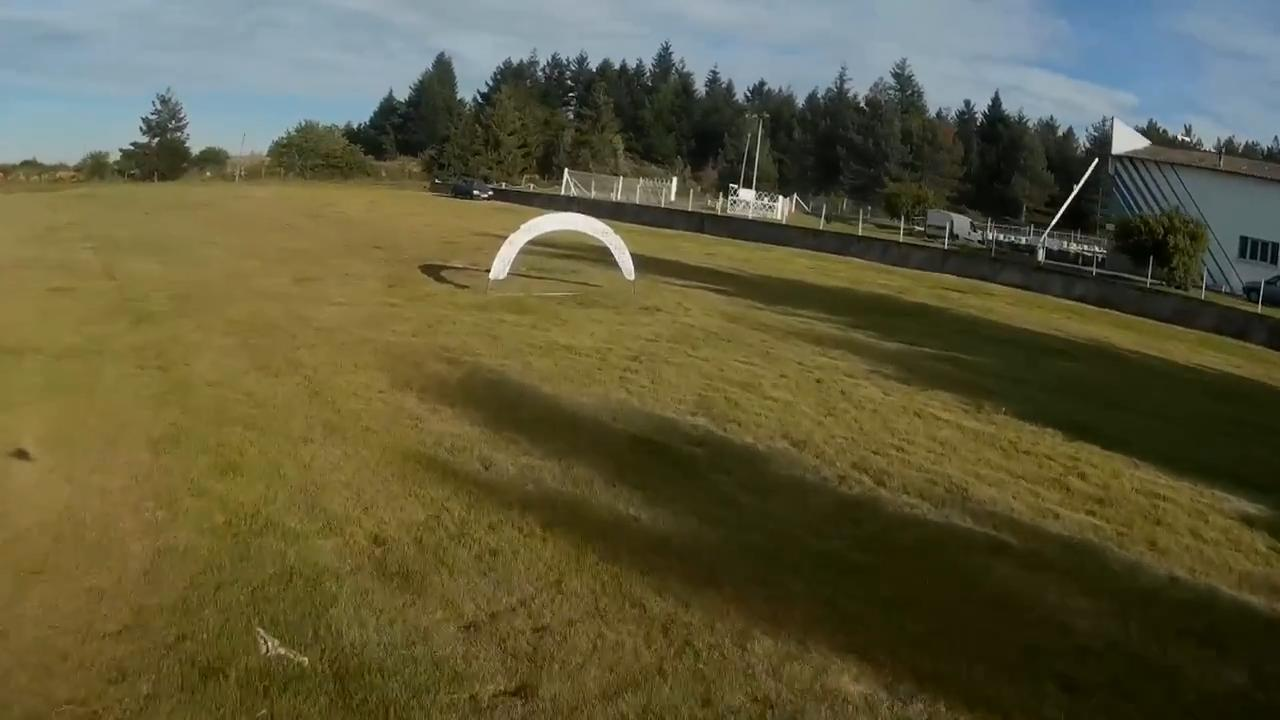gate: (490, 211, 635, 280)
